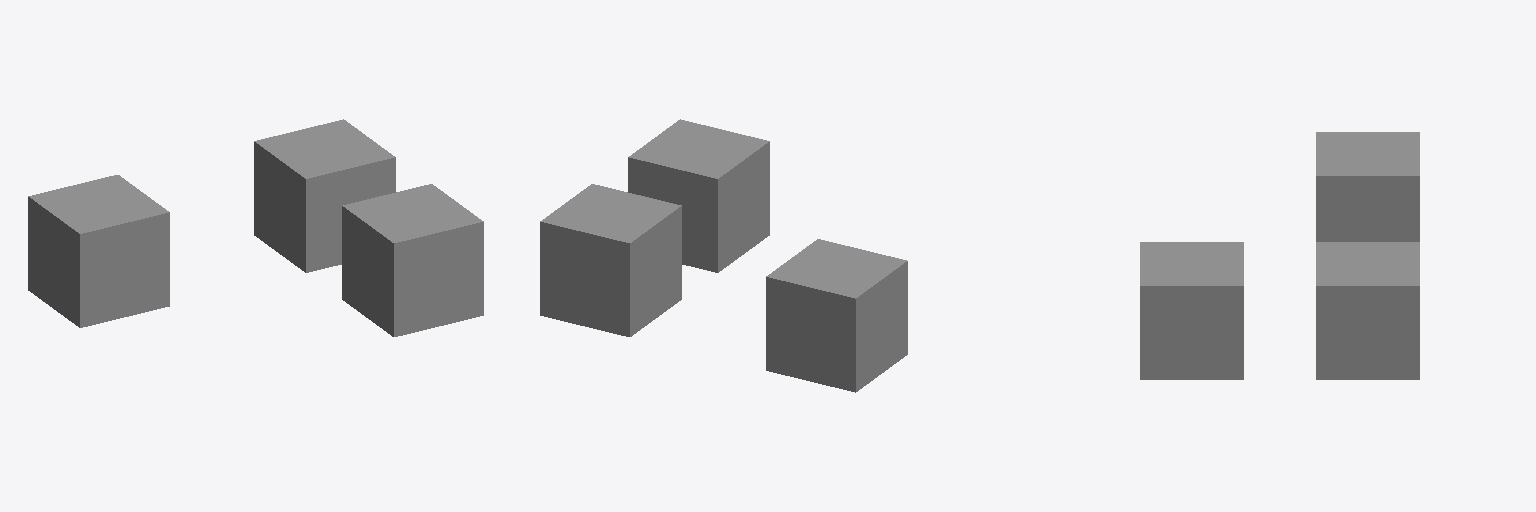
The model's file is complex.obj.
3 renders of one model, left to right at view 1: azimuth 30°, elevation 25°; view 2: azimuth 150°, elevation 25°; view 3: azimuth 270°, elevation 25°, orthographic.
Parts seen in each view (by area): view 1: Cube_03_Cube.002, Cube_02_Cube.001, Cube_01_Cube; view 2: Cube_02_Cube.001, Cube_01_Cube, Cube_03_Cube.002; view 3: Cube_03_Cube.002, Cube_01_Cube, Cube_02_Cube.001.
Part boxes in pixels (bbox=[...]): Cube_03_Cube.002: bbox=[342, 184, 483, 336]; Cube_02_Cube.001: bbox=[28, 175, 169, 327]; Cube_01_Cube: bbox=[254, 119, 395, 272]; Cube_02_Cube.001: bbox=[766, 239, 907, 392]; Cube_01_Cube: bbox=[540, 184, 681, 336]; Cube_03_Cube.002: bbox=[628, 119, 769, 272]; Cube_03_Cube.002: bbox=[1140, 242, 1243, 379]; Cube_01_Cube: bbox=[1316, 242, 1419, 379]; Cube_02_Cube.001: bbox=[1316, 132, 1419, 241].
Bounding box in the file's own units: 7.03 × 2 × 5.39.